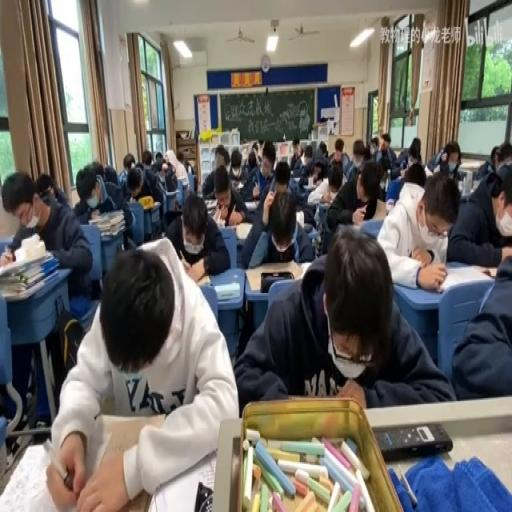calculator: (148, 444, 221, 509), (374, 422, 451, 461), (244, 260, 306, 292), (214, 282, 240, 300), (314, 201, 330, 226), (234, 219, 252, 240), (190, 269, 212, 286), (97, 222, 124, 235), (467, 178, 486, 196), (211, 204, 225, 224), (455, 166, 467, 185), (478, 266, 498, 277), (176, 170, 188, 188), (295, 209, 304, 228), (204, 196, 217, 209), (243, 199, 258, 209), (89, 208, 101, 220), (157, 169, 164, 182), (236, 179, 243, 189), (150, 199, 159, 206)
paper: (50, 239, 238, 509), (234, 228, 448, 411), (0, 168, 91, 300), (376, 168, 456, 287), (450, 258, 510, 400), (446, 161, 512, 266), (238, 183, 312, 269), (162, 188, 229, 278), (78, 160, 134, 254), (326, 155, 384, 233), (123, 159, 165, 219), (424, 141, 459, 179), (373, 131, 395, 173), (289, 170, 314, 204), (327, 138, 349, 173), (34, 170, 56, 200), (228, 145, 246, 181), (402, 162, 426, 189), (272, 159, 290, 192), (384, 174, 403, 204), (494, 162, 512, 189), (472, 158, 494, 180), (288, 138, 302, 168), (91, 160, 107, 184), (213, 145, 229, 168), (246, 144, 259, 169), (407, 137, 420, 162), (393, 148, 408, 169), (163, 169, 176, 192), (490, 145, 500, 168), (122, 152, 134, 171), (141, 148, 153, 166), (154, 150, 164, 170), (180, 152, 190, 172), (361, 145, 370, 161), (370, 136, 378, 154), (318, 141, 326, 158), (304, 145, 311, 161)
